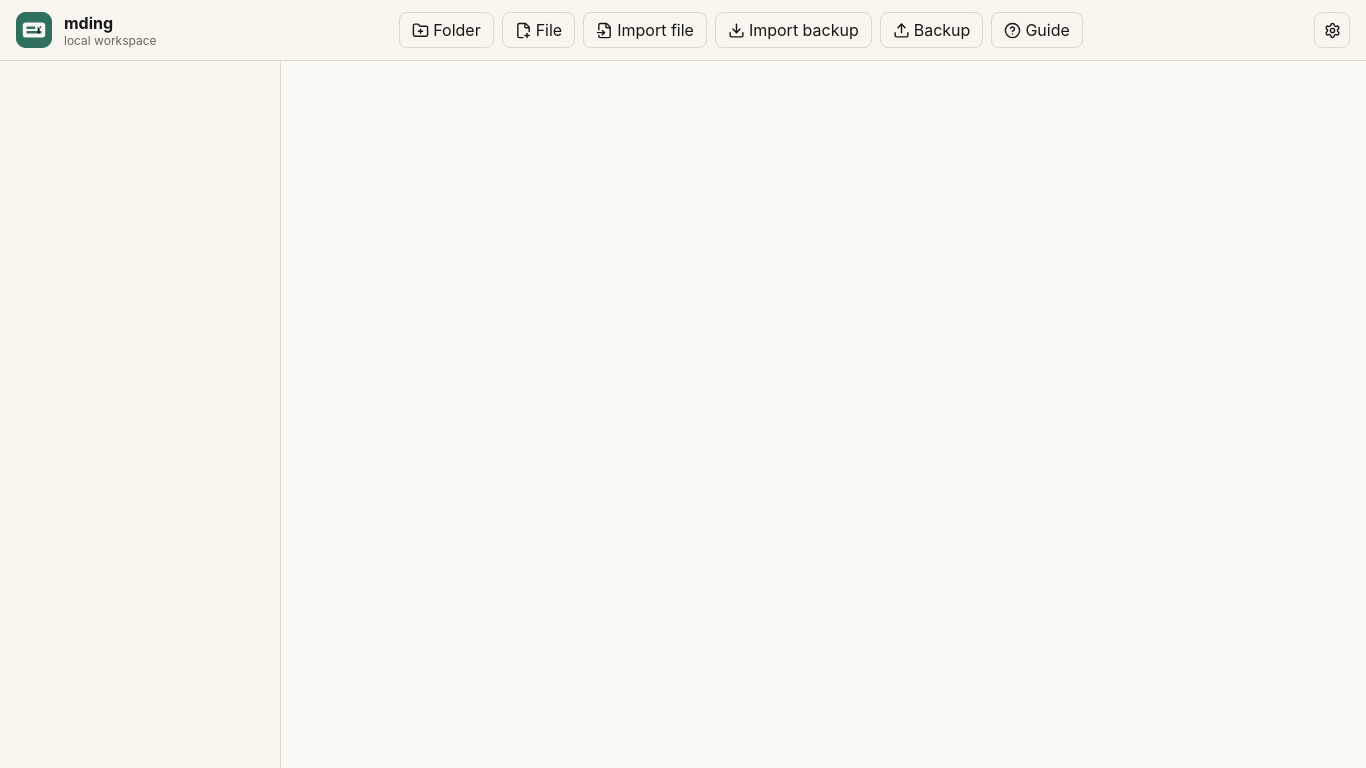
Test: App creation actions › opens the shared name dialog from both topbar actions
Step 1. Click the button "Folder" → (446, 30), box [399,12,494,48]
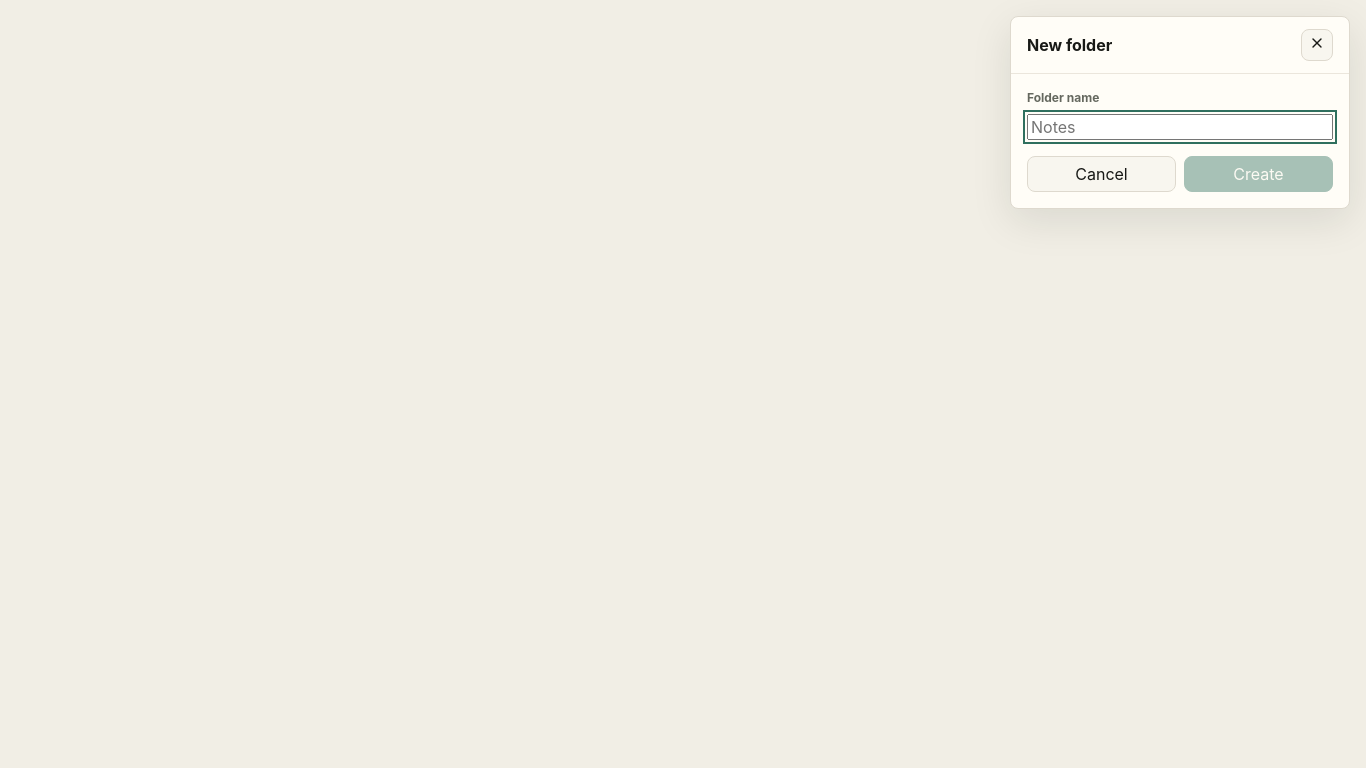
Expected: the heading "New folder" is shown, [1027,34,1112,56]
Step 2. Click the button "Cancel" → (1102, 174), box [1027,156,1176,192]
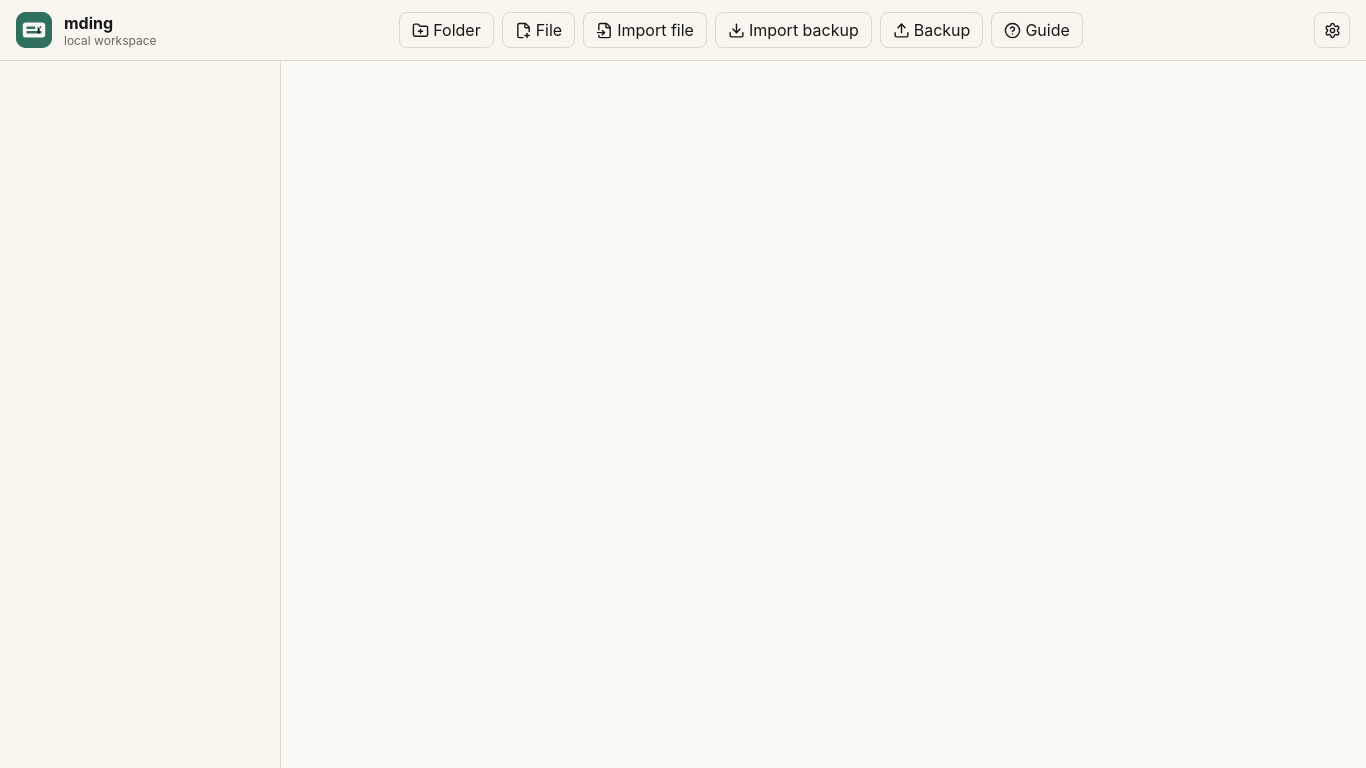
Step 3. Click the button "File" → (538, 30), box [502,12,575,48]
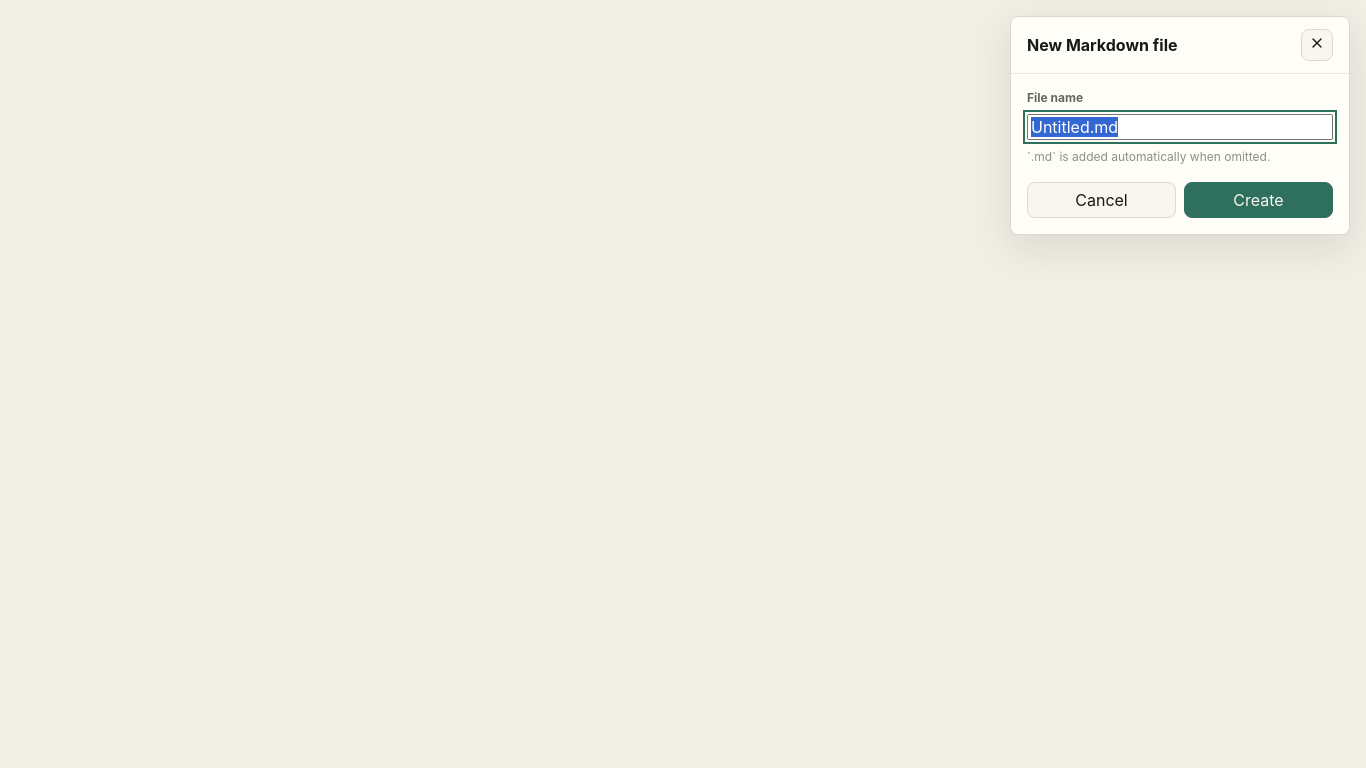
Expected: the heading "New Markdown file" is shown, [1027,34,1178,56]
Expected: the field with id "new-file-name" is shown, [1027,114,1333,140]
